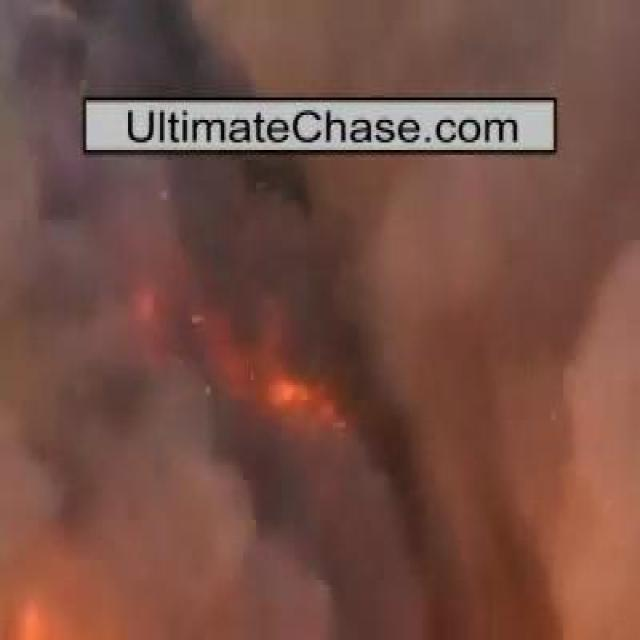Smoke: (41, 160, 594, 582)
